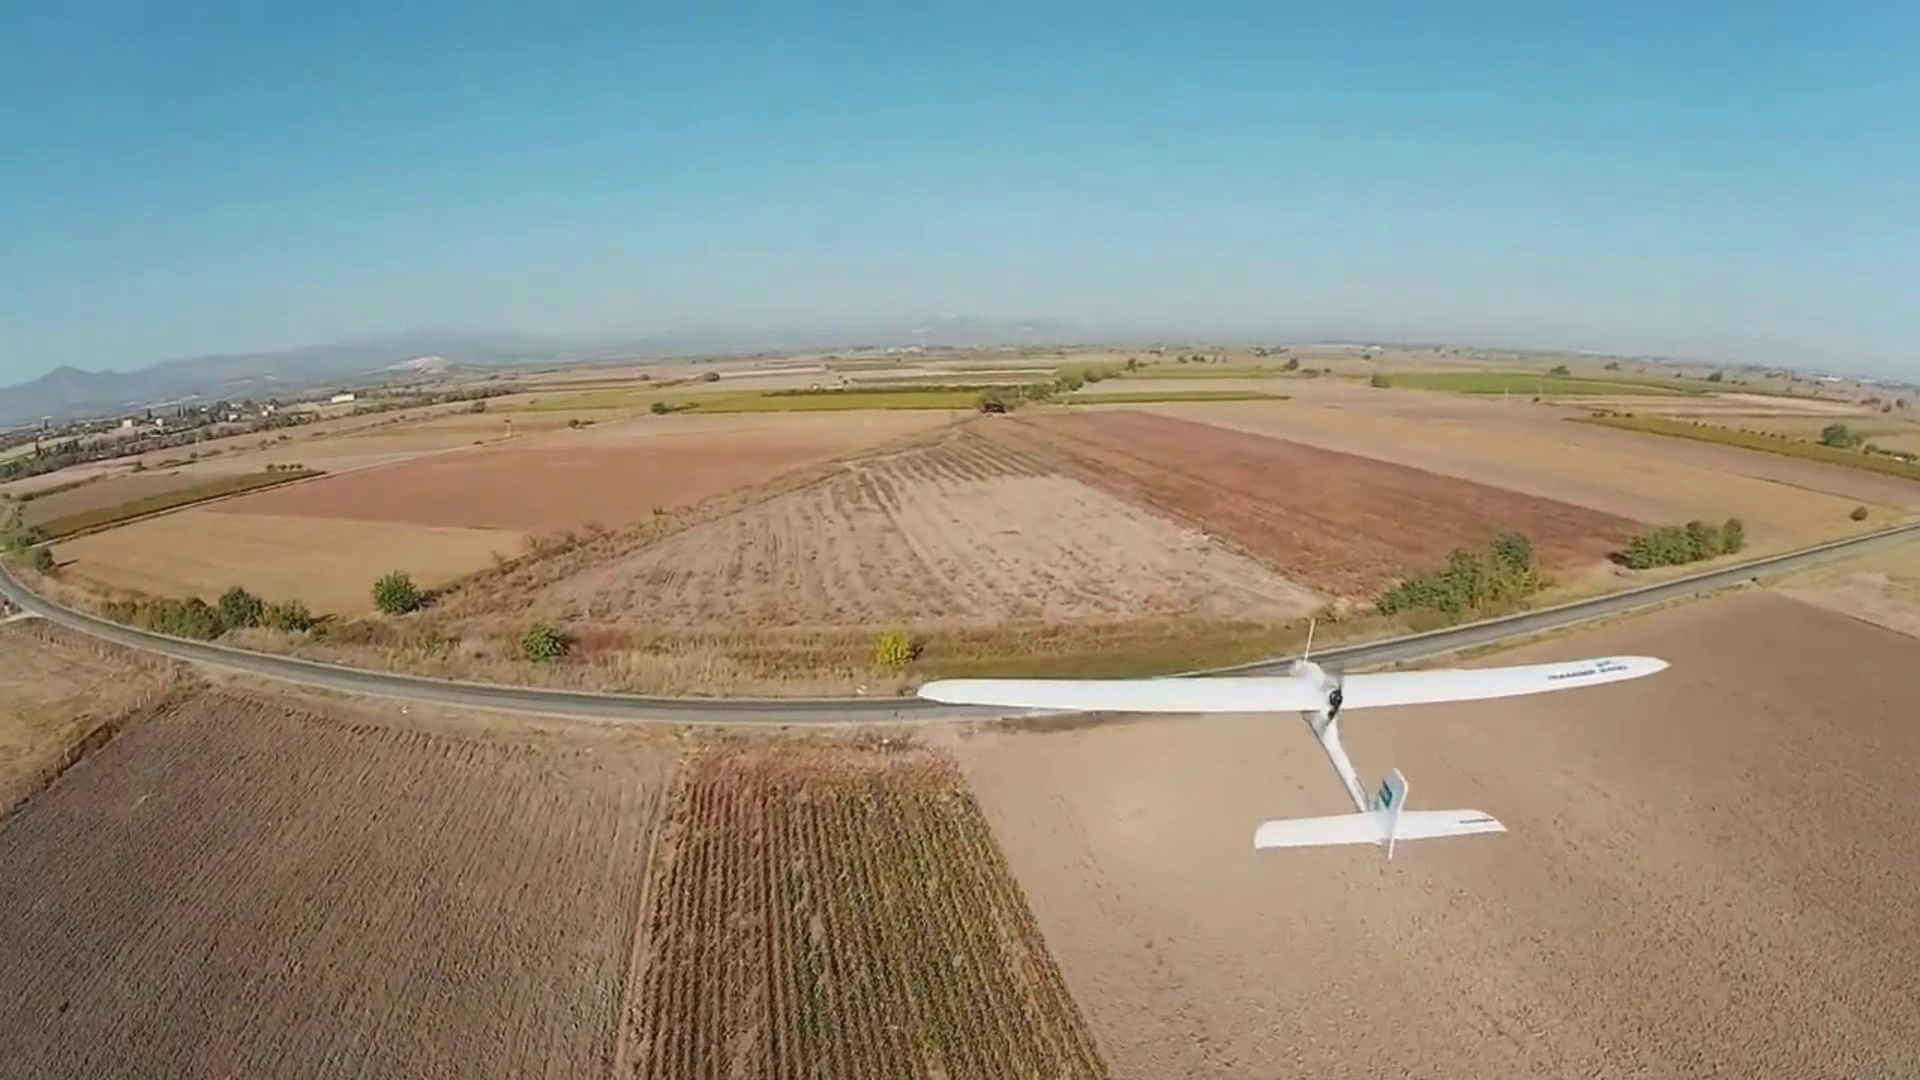airplane: (900, 625, 1665, 849)
